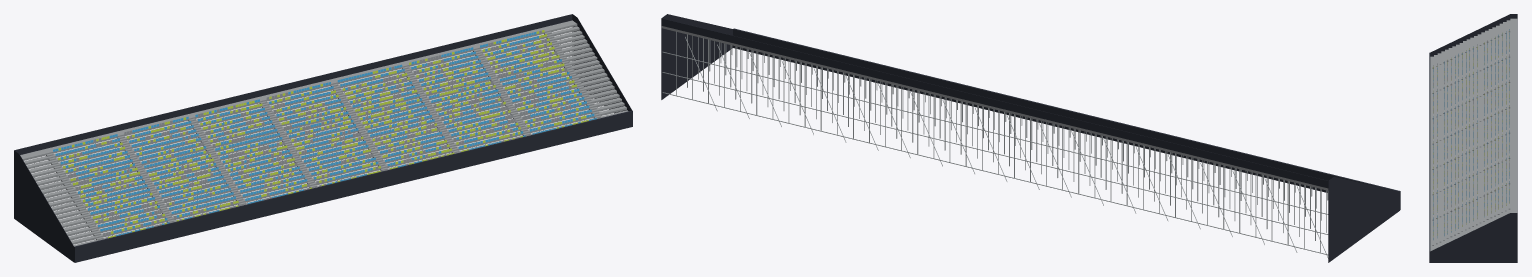
Rendered from sgp_stand_t1_c.glb.
The picture shows the model from 3 angles, left to right: view 1: azimuth 30°, elevation 25°; view 2: azimuth 150°, elevation 25°; view 3: azimuth 270°, elevation 25°; orthographic projection. The views are drawn at different scales.
Parts seen in each view (by area): view 1: singapore-t1-grandstand; view 2: singapore-t1-grandstand; view 3: singapore-t1-grandstand.
Boxes of the visible parts, <box> form: singapore-t1-grandstand: <box>14,14,632,262</box>; singapore-t1-grandstand: <box>661,14,1400,262</box>; singapore-t1-grandstand: <box>1429,14,1517,262</box>.
Size of the model in its own units: 104 by 12.14 by 19.45.
